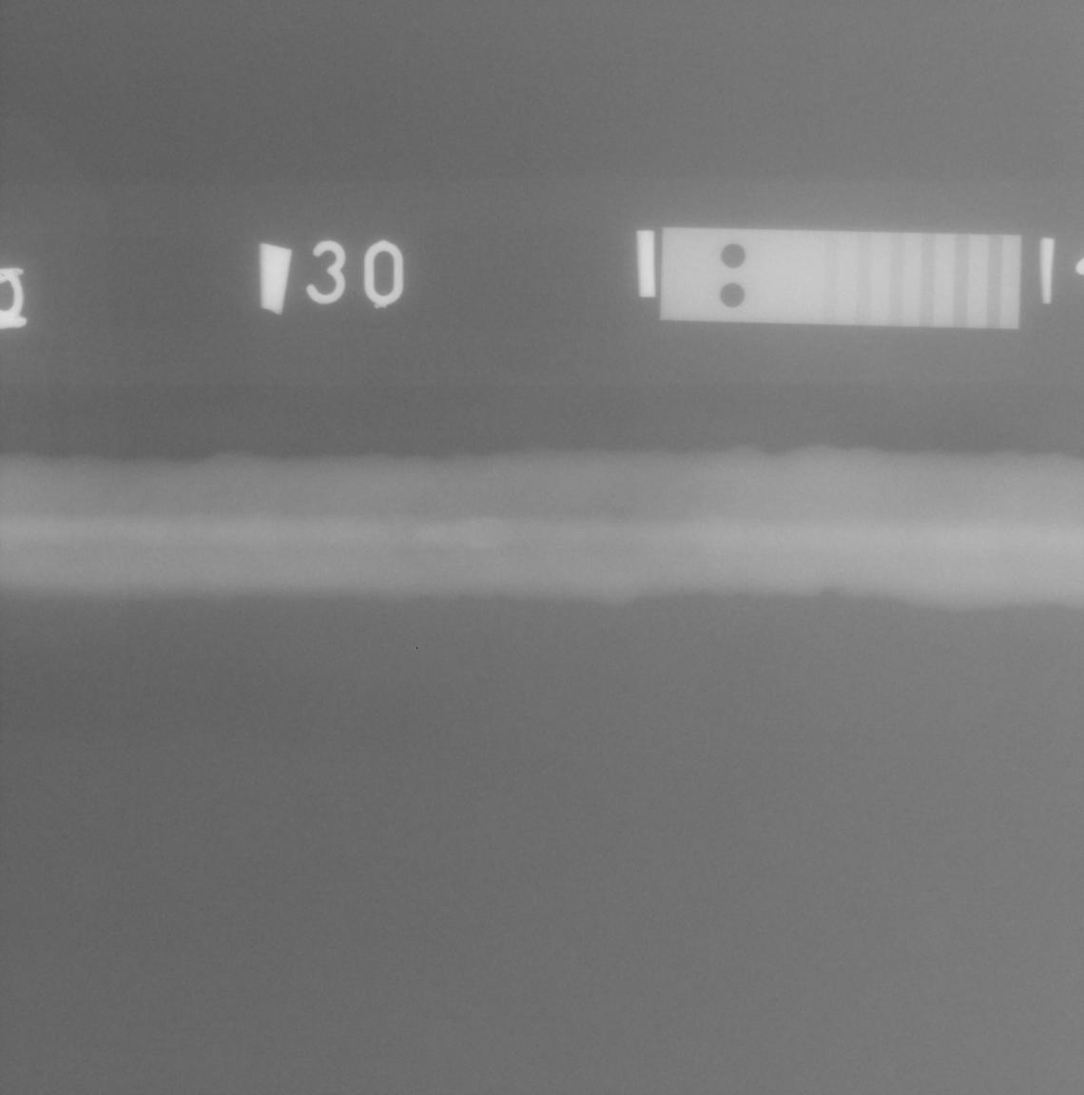Pore/Porosity: (380, 511, 384, 514)
Reference Standard 2: (660, 227, 1022, 329)
